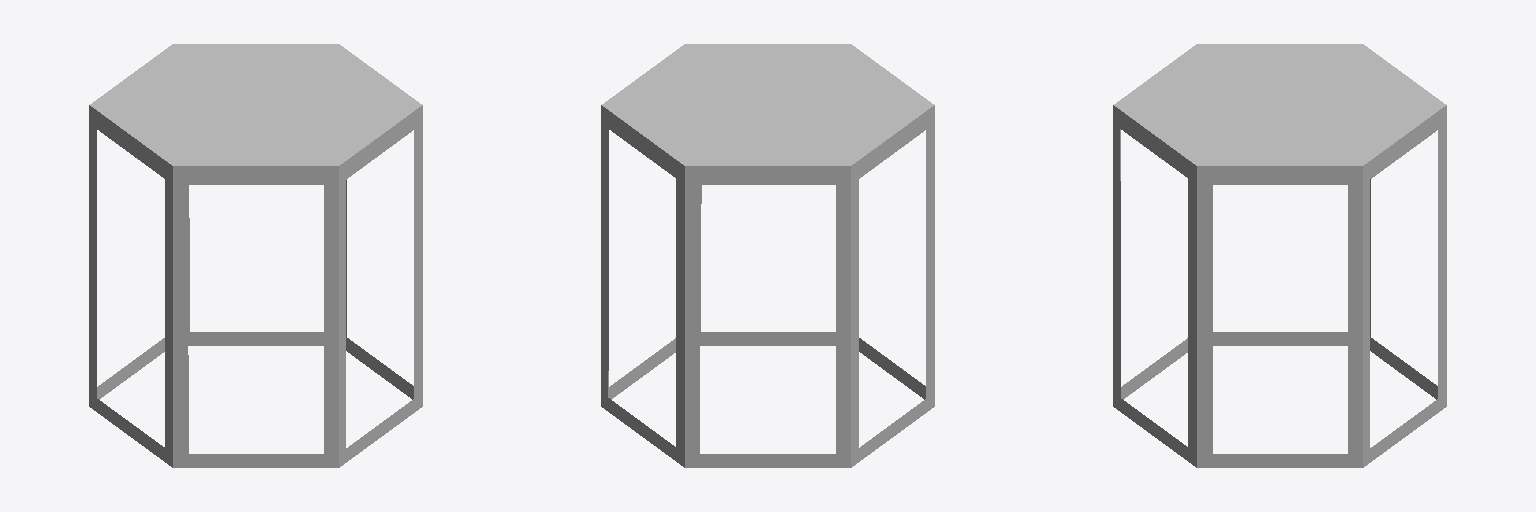
File: house2.obj
The picture shows the model from 3 angles: view 1: azimuth 30°, elevation 25°; view 2: azimuth 150°, elevation 25°; view 3: azimuth 270°, elevation 25°; orthographic projection.
Parts seen in each view (by area): view 1: Cylinder; view 2: Cylinder; view 3: Cylinder.
Boxes of the visible parts, <box> form: Cylinder: <box>89,44,422,467</box>; Cylinder: <box>601,44,934,467</box>; Cylinder: <box>1113,44,1446,467</box>.
Size of the model in its own units: 1.95 by 2.25 by 2.25.